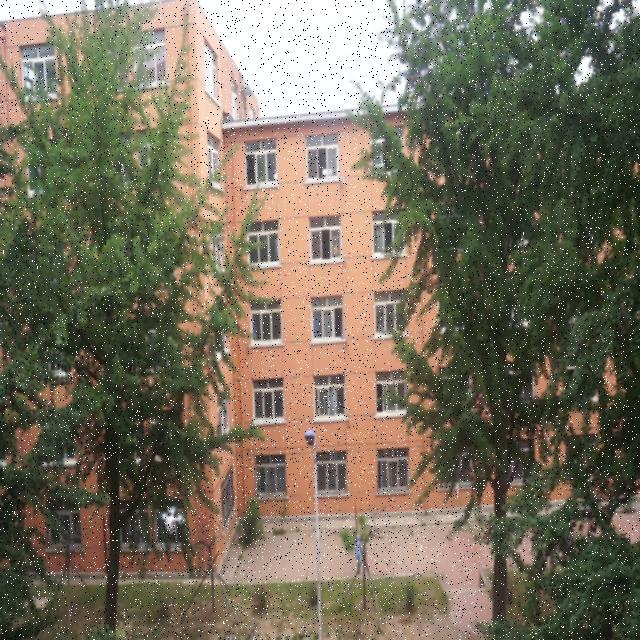UAV: (158, 506, 186, 533)
